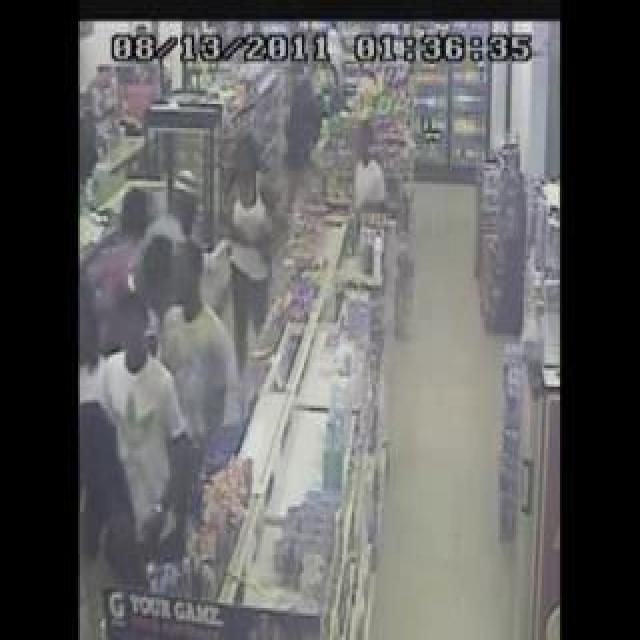thief: (105, 206, 212, 434), (212, 129, 274, 216), (287, 70, 343, 154), (359, 105, 399, 183)
